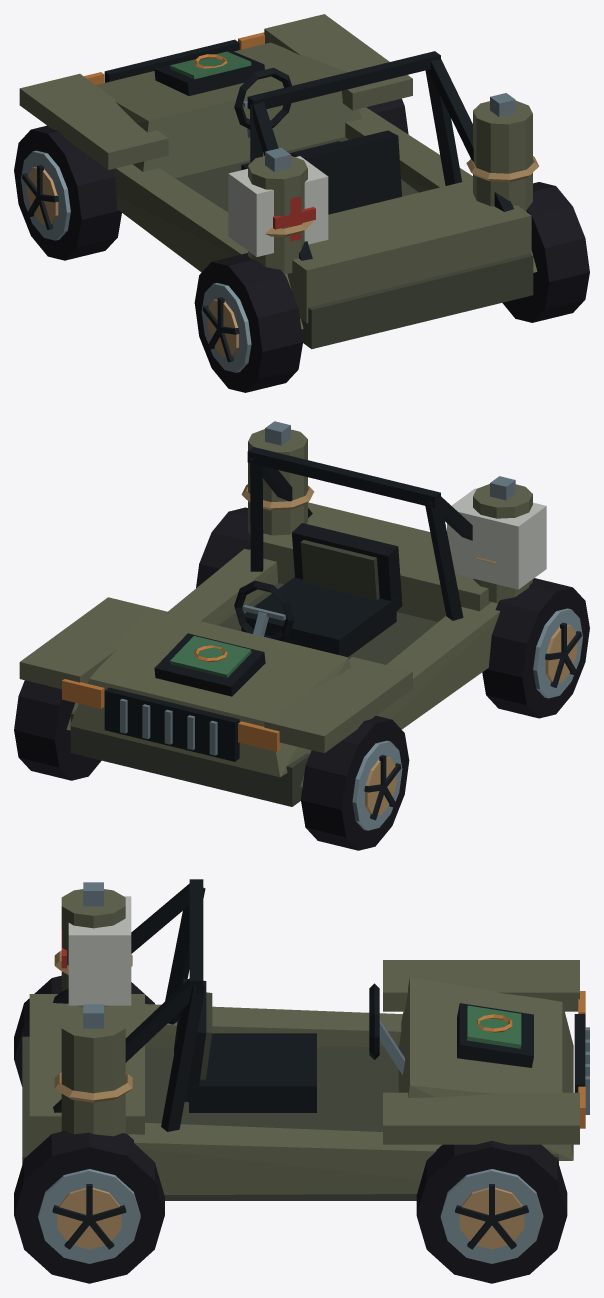
Rendered from kart.glb.
3 renders of one model, top to bottom at view 1: azimuth 30°, elevation 25°; view 2: azimuth 150°, elevation 25°; view 3: azimuth 270°, elevation 25°, orthographic. The views are drawn at different scales.
Visible parts, largest first — view 1: identity-jeep-jeep-offroad-frame, wheel-rear-left, wheel-front-left, identity-jeep-motif-tanks, wheel-rear-right, identity-jeep-driver-cockpit, identity-jeep-motif-medical, identity-jeep-motif-scanner, wheel-front-right; view 2: identity-jeep-jeep-offroad-frame, identity-jeep-driver-cockpit, wheel-rear-left, wheel-front-left, identity-jeep-motif-tanks, identity-jeep-motif-medical, wheel-front-right, identity-jeep-motif-scanner, wheel-rear-right; view 3: identity-jeep-jeep-offroad-frame, wheel-rear-right, wheel-front-right, identity-jeep-driver-cockpit, identity-jeep-motif-tanks, identity-jeep-motif-medical, identity-jeep-motif-scanner, wheel-rear-left.
Part boxes in pixels (box(x1,y1,x2,y2)): identity-jeep-jeep-offroad-frame: box(19, 14, 537, 349); wheel-rear-left: box(194, 253, 302, 392); wheel-front-left: box(14, 125, 121, 260); identity-jeep-motif-tanks: box(248, 93, 539, 274); wheel-rear-right: box(502, 182, 589, 322); identity-jeep-driver-cockpit: box(234, 67, 401, 214); identity-jeep-motif-medical: box(228, 156, 328, 256); identity-jeep-motif-scanner: box(154, 50, 264, 95); wheel-front-right: box(366, 98, 408, 134); identity-jeep-jeep-offroad-frame: box(19, 447, 500, 806); identity-jeep-driver-cockpit: box(234, 523, 402, 657); wheel-rear-left: box(482, 578, 589, 718); wheel-front-left: box(301, 715, 409, 850); identity-jeep-motif-tanks: box(241, 421, 532, 602); identity-jeep-motif-medical: box(447, 488, 546, 589); wheel-front-right: box(14, 680, 101, 780); identity-jeep-motif-scanner: box(154, 633, 265, 696); wheel-rear-right: box(196, 507, 250, 587); identity-jeep-jeep-offroad-frame: box(22, 879, 589, 1200); wheel-rear-right: box(14, 1131, 164, 1283); wheel-front-right: box(416, 1141, 567, 1283); identity-jeep-driver-cockpit: box(174, 978, 404, 1112); identity-jeep-motif-tanks: box(54, 882, 132, 1136); identity-jeep-motif-medical: box(61, 896, 131, 1005); identity-jeep-motif-scanner: box(457, 1003, 533, 1067); wheel-rear-left: box(14, 975, 154, 1086).
Bounding box in the file's own units: 2.13 × 1.39 × 2.75.
